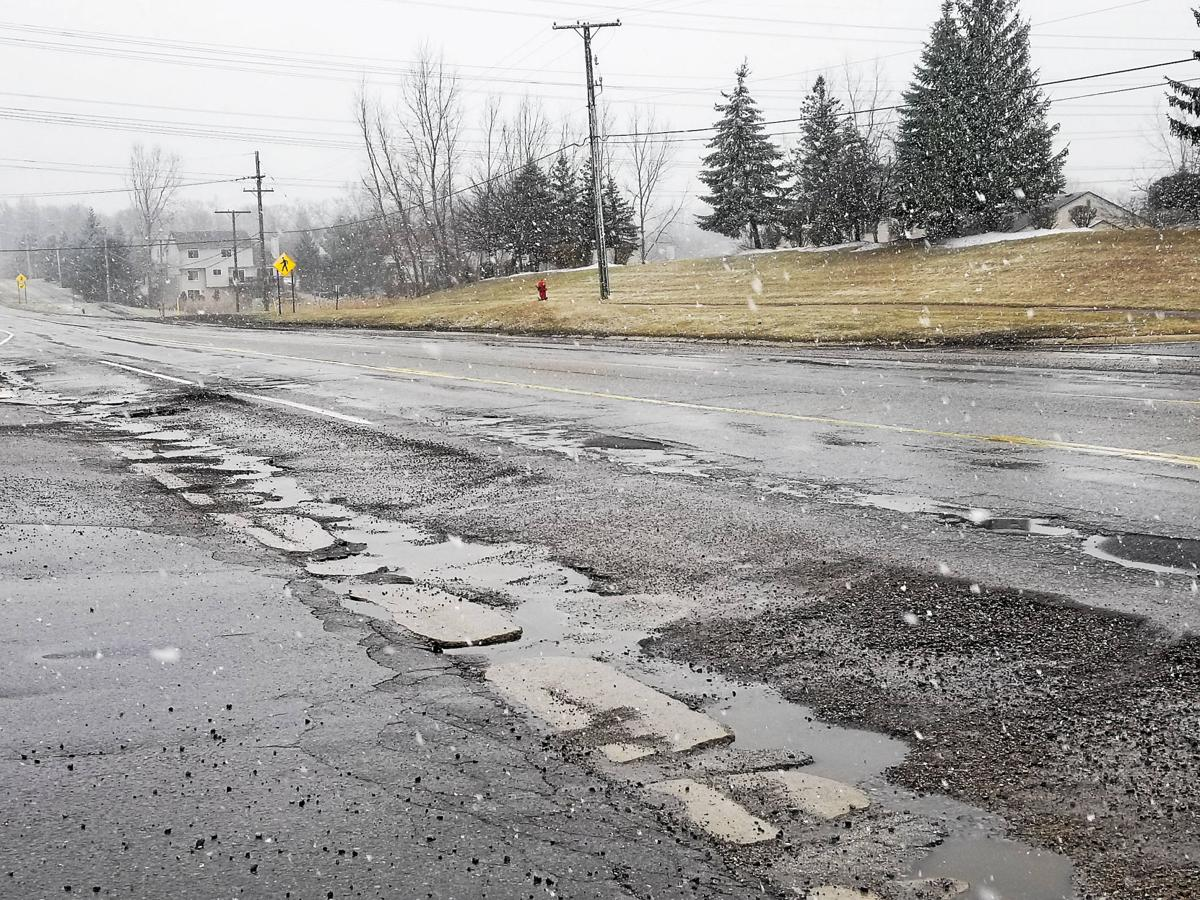pothole: (139, 338, 830, 860), (239, 338, 830, 860)
